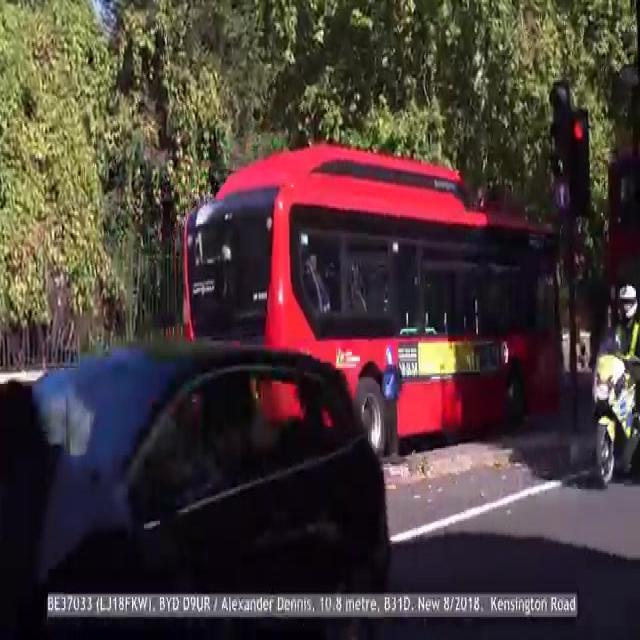bus: (181, 143, 563, 451)
